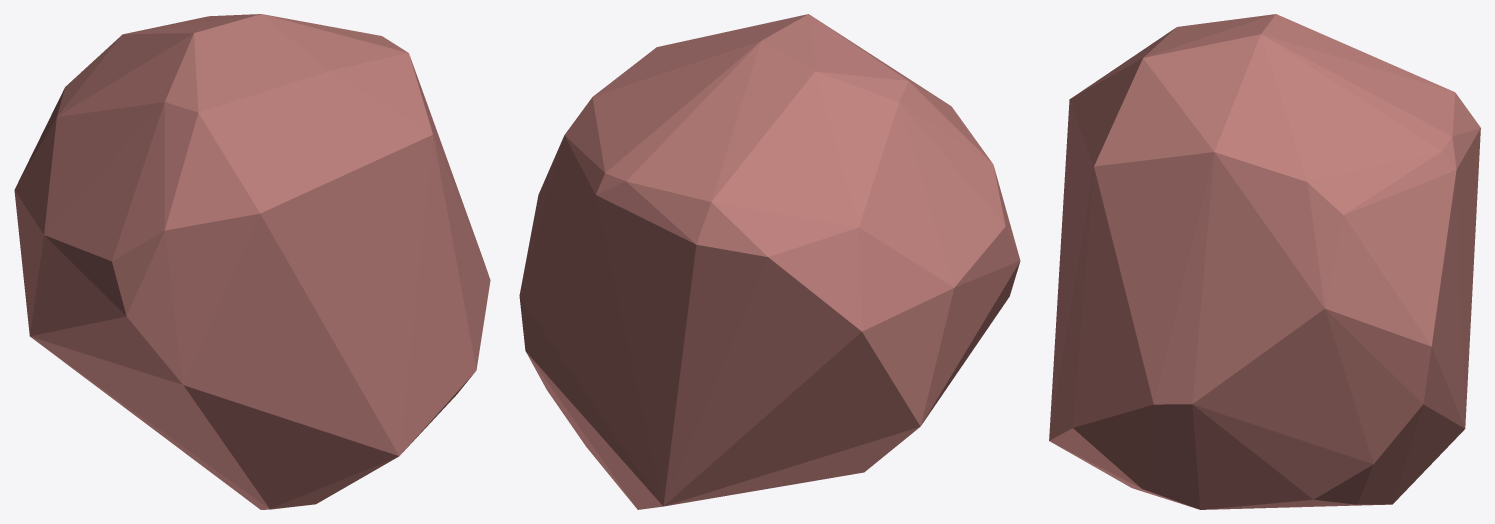
The model's file is food_produce_apple_g01.glb.
The picture shows the model from 3 angles, left to right: view 1: azimuth 30°, elevation 25°; view 2: azimuth 150°, elevation 25°; view 3: azimuth 270°, elevation 25°; orthographic projection. The views are drawn at different scales.
Visible parts, largest first — view 1: geometry_0; view 2: geometry_0; view 3: geometry_0.
Part boxes in pixels (x1,y1,x2,y2): geometry_0: [14, 14, 490, 509]; geometry_0: [519, 14, 1020, 509]; geometry_0: [1049, 14, 1480, 509].
Size of the model in its own units: 0.4214 by 0.4611 by 0.3891.
